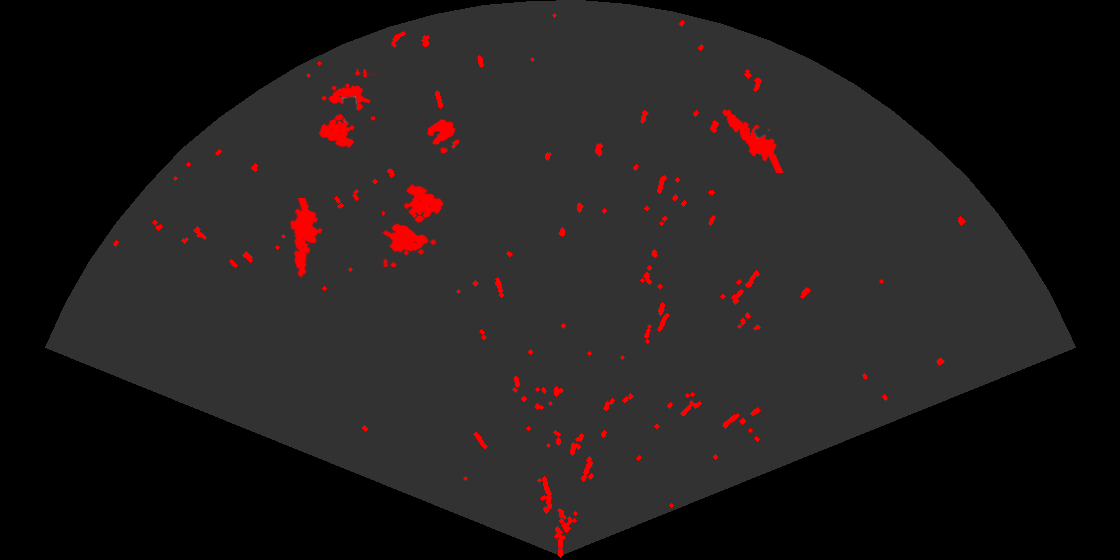ball: (426, 118, 461, 155)
cage: (382, 182, 445, 267), (317, 69, 375, 150)
frogman: (721, 108, 785, 173), (288, 198, 324, 279)
